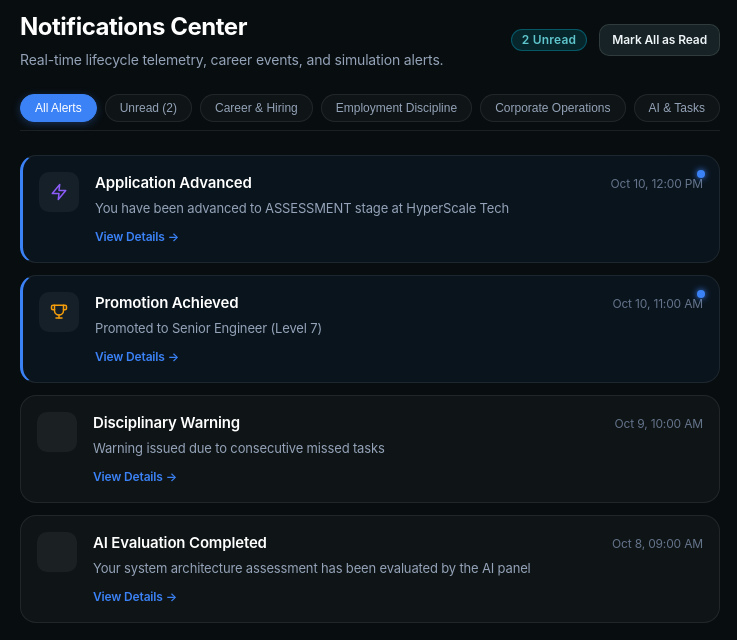
Test case: NotificationsCenter Frontend Suite (TASK P9.5) › filters notifications by unread tab
Expected: the text "Application Advanced" is shown, [95,172,252,194]
// Click Unread tab
Click the button "Unread (2)": [148, 108] box [105,94,192,122]
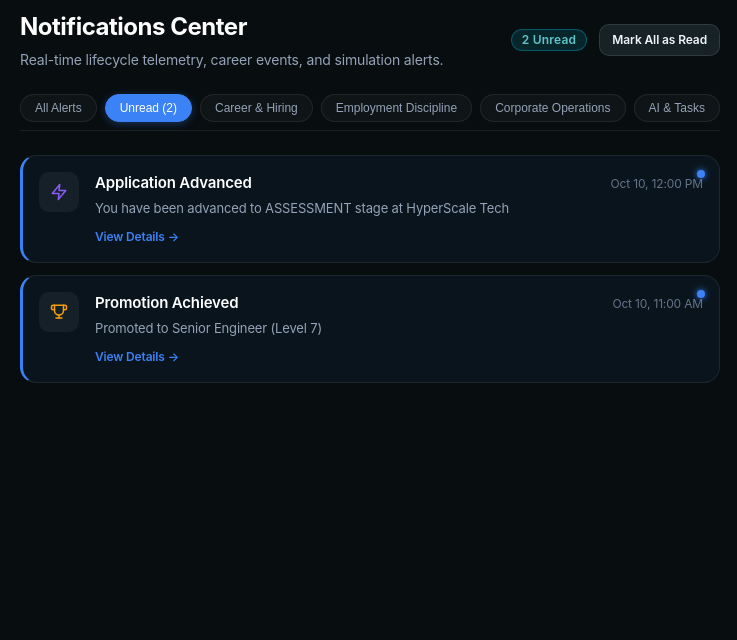
Expected: the text "Application Advanced" is shown, [95,172,252,194]
Expected: the button "Disciplinary Warning" is gone
Expected: the button "AI Evaluation Completed" is gone
